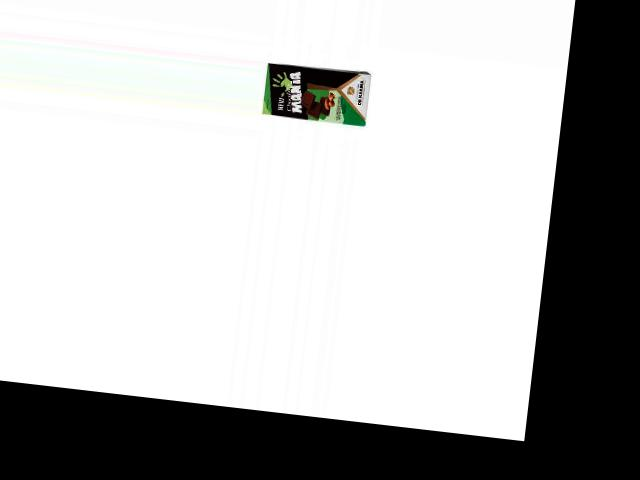chocolate: (259, 59, 373, 129)
